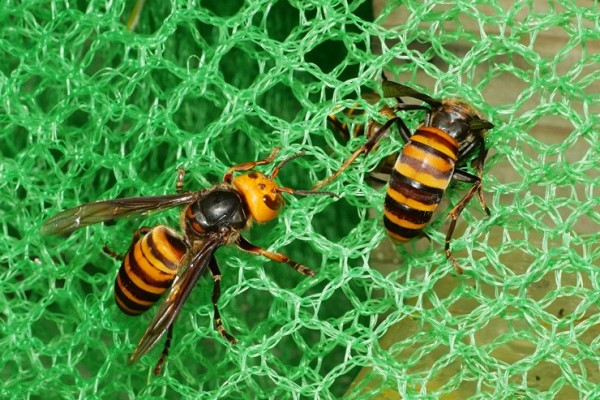asian_giant_hornet: (109, 147, 323, 318), (370, 82, 499, 243)
